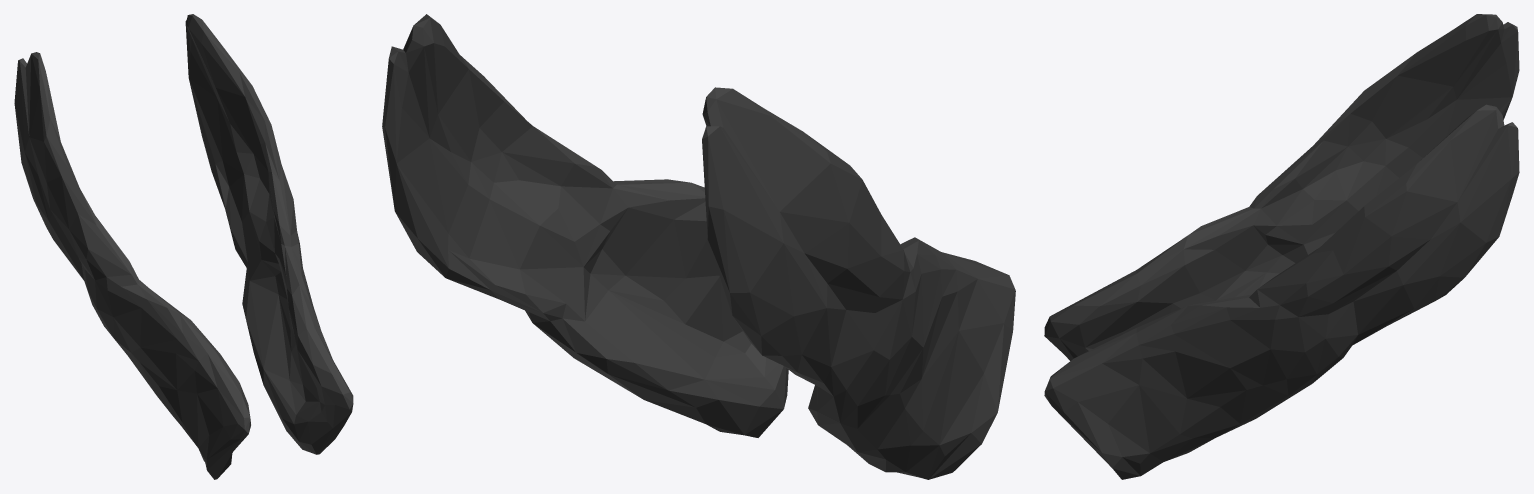
File: m_buccinator.glb
3 views of the same model, side by side, from view 1: azimuth 30°, elevation 25°; view 2: azimuth 150°, elevation 25°; view 3: azimuth 270°, elevation 25° (orthographic). The views are drawn at different scales.
Visible parts, largest first — view 1: m_buccinator; view 2: m_buccinator; view 3: m_buccinator.
Part boxes in pixels (x1,y1,x2,y2): m_buccinator: [14, 14, 353, 479]; m_buccinator: [382, 14, 1015, 479]; m_buccinator: [1044, 14, 1519, 479].
Bounding box in the file's own units: 0.00255 × 0.0036 × 0.00398.
Materials: 1 (1 with a texture image).
